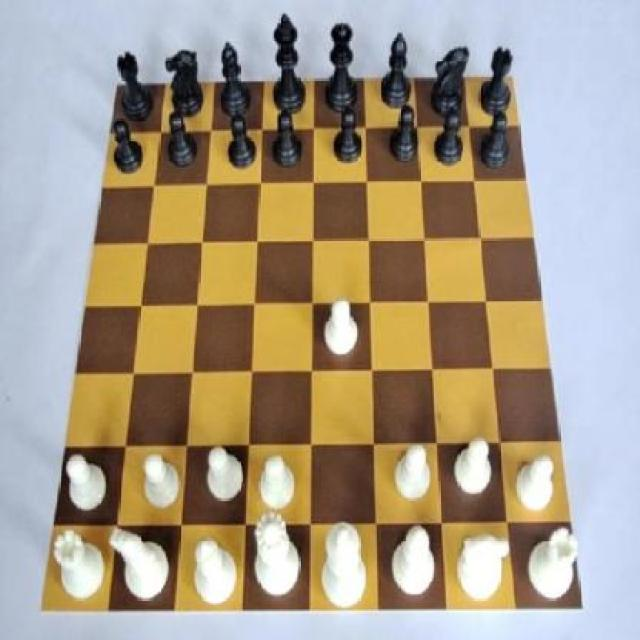bishop: (215, 42, 253, 125), (382, 32, 411, 112)
black-bishop: (270, 8, 308, 113)
black-king: (434, 39, 471, 122), (166, 43, 205, 120)
black-knight: (103, 116, 147, 182), (478, 104, 518, 170), (162, 111, 200, 180), (269, 110, 305, 178), (384, 101, 420, 168), (329, 106, 364, 169), (222, 115, 259, 173), (434, 103, 464, 171)
black-pawn: (319, 14, 363, 118)
black-queen: (112, 46, 158, 129), (480, 43, 517, 118)
black-rook: (386, 524, 439, 600), (191, 531, 241, 606)
white-bishop: (320, 520, 372, 612)
white-king: (111, 523, 172, 608), (454, 529, 514, 602)
white-knight: (512, 448, 558, 522), (200, 438, 248, 508), (63, 449, 113, 513), (134, 451, 183, 515), (388, 446, 440, 505), (451, 435, 493, 498), (256, 451, 298, 511), (318, 302, 362, 356)
white-pawn: (254, 511, 300, 602)
white-queen: (49, 529, 110, 612), (529, 523, 577, 605)
